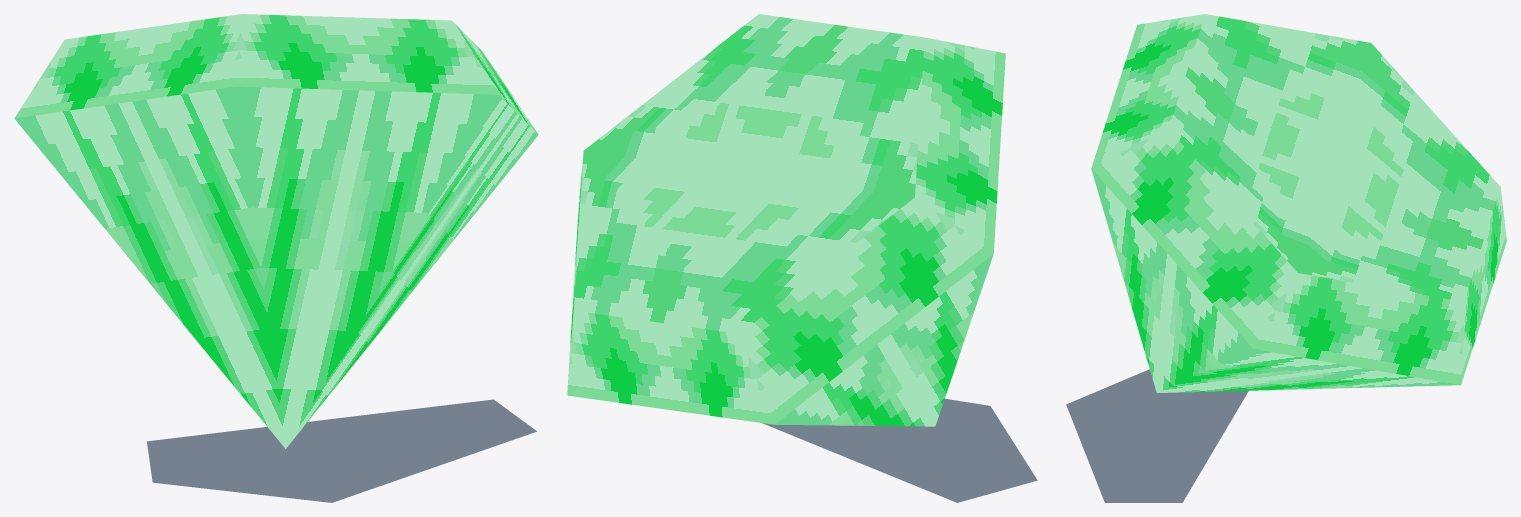
The picture shows the model from 3 angles, left to right: view 1: azimuth 30°, elevation 25°; view 2: azimuth 150°, elevation 25°; view 3: azimuth 270°, elevation 25°; orthographic projection. The views are drawn at different scales.
Parts seen in each view (by area): view 1: 01_polygon0, 00_polygon1; view 2: 01_polygon0, 00_polygon1; view 3: 01_polygon0, 00_polygon1.
Part boxes in pixels (<box>): 01_polygon0: <box>14,14,538,448</box>; 00_polygon1: <box>147,399,536,502</box>; 01_polygon0: <box>567,14,1005,426</box>; 00_polygon1: <box>762,398,1037,502</box>; 01_polygon0: <box>1091,14,1506,392</box>; 00_polygon1: <box>1066,369,1248,502</box>.
Bounding box in the file's own units: 0.3898 × 0.3423 × 0.3547.
Materials: 1 (1 with a texture image).
